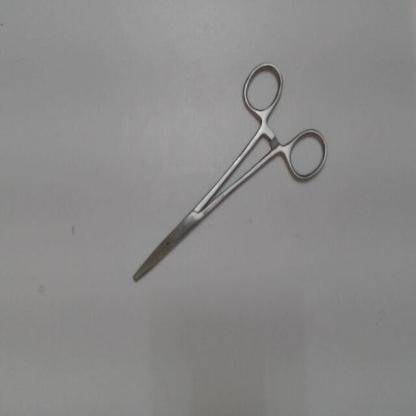Mayo Needle Holder: (118, 51, 335, 297)
